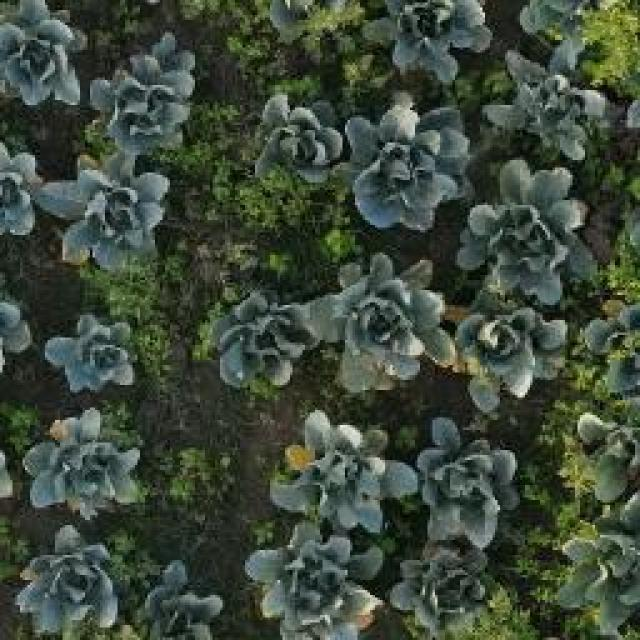cabbage: (320, 254, 455, 389), (342, 98, 474, 233), (468, 164, 594, 304), (272, 408, 413, 530), (249, 529, 378, 640), (83, 35, 199, 153), (25, 406, 143, 520), (490, 42, 609, 155), (52, 150, 162, 268), (405, 432, 515, 550), (11, 527, 122, 640), (453, 310, 569, 403), (41, 306, 146, 397), (0, 0, 82, 115), (250, 88, 344, 188), (218, 285, 318, 377), (395, 548, 499, 631), (378, 0, 490, 75), (140, 559, 229, 640)
